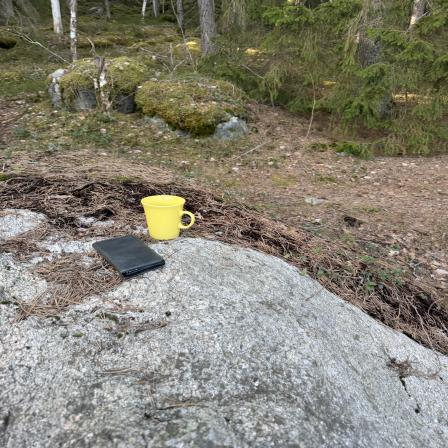phone: (90, 234, 168, 278)
yellow_cup: (142, 195, 197, 243)
